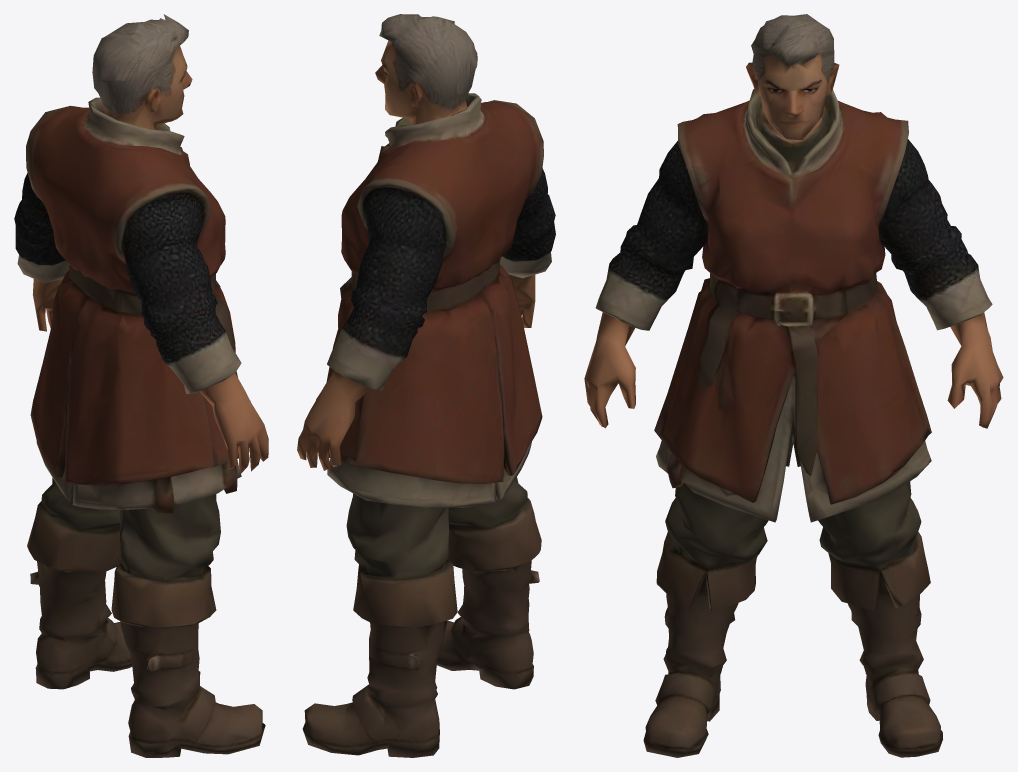
The model's file is model-npc-garrick-01.glb.
3 views of the same model, side by side, from view 1: azimuth 30°, elevation 25°; view 2: azimuth 150°, elevation 25°; view 3: azimuth 270°, elevation 25° (orthographic). The views are drawn at different scales.
Visible parts, largest first — view 1: tripo_node_1c26847f-7a01-4c6c-ad5a-b11df2a7862c; view 2: tripo_node_1c26847f-7a01-4c6c-ad5a-b11df2a7862c; view 3: tripo_node_1c26847f-7a01-4c6c-ad5a-b11df2a7862c.
Part boxes in pixels (x1=…): tripo_node_1c26847f-7a01-4c6c-ad5a-b11df2a7862c: x1=14, y1=14, x2=268, y2=757; tripo_node_1c26847f-7a01-4c6c-ad5a-b11df2a7862c: x1=297, y1=14, x2=555, y2=757; tripo_node_1c26847f-7a01-4c6c-ad5a-b11df2a7862c: x1=584, y1=14, x2=1003, y2=757.
Size of the model in its own units: 0.4417 by 1.8 by 0.9623.
Materials: 1 (1 with a texture image).
